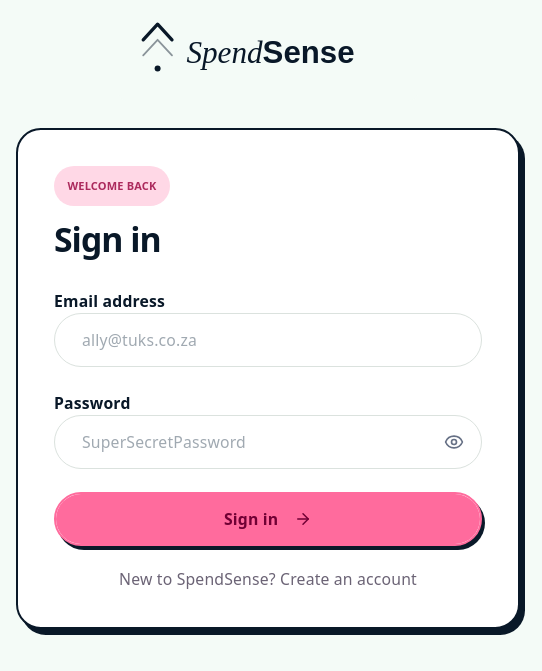
Test: LoginPage Component › should display validation errors when fields are empty and submitted
Click the button "Sign in": (268,519) x1=54 y1=492 x2=482 y2=546
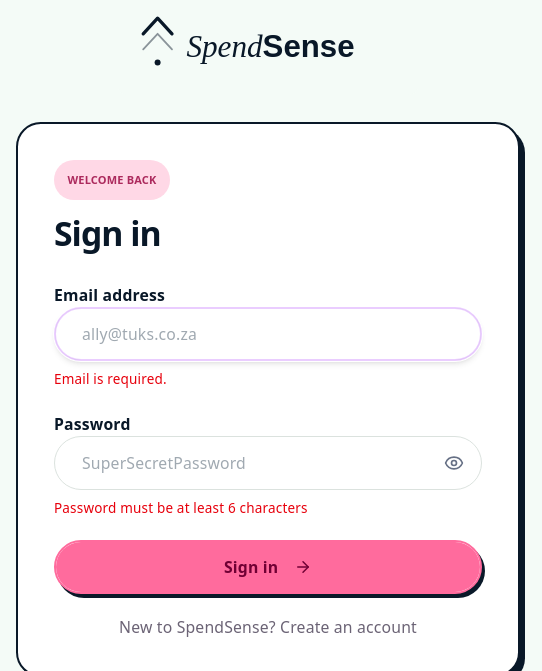
Check: the text "Email is required." is shown, box x1=54 y1=370 x2=167 y2=388
Check: the text "Password must be at least 6 characters" is shown, box x1=54 y1=499 x2=308 y2=517
